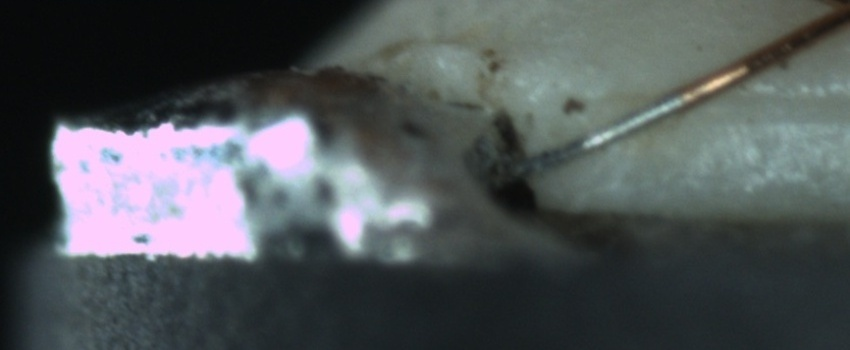CL: (809, 0, 850, 32)
DL: (689, 69, 847, 137)
TS: (501, 92, 687, 183)
